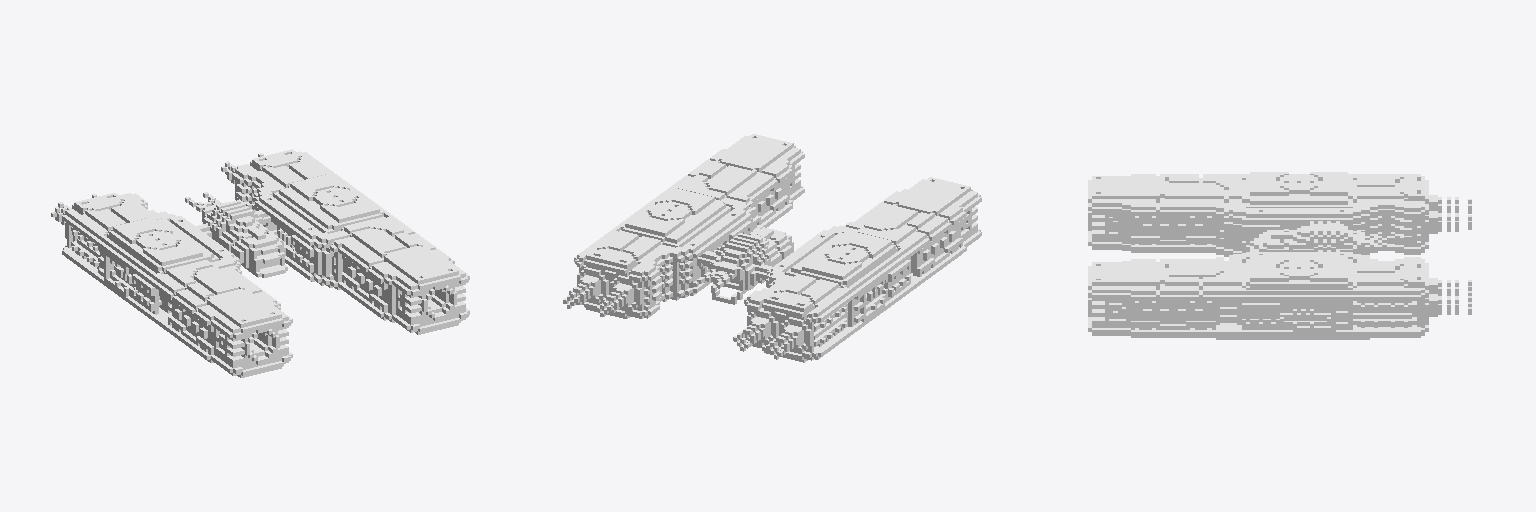
The model's file is DualStriker.obj.
3 views of the same model, side by side, from view 1: azimuth 30°, elevation 25°; view 2: azimuth 150°, elevation 25°; view 3: azimuth 270°, elevation 25° (orthographic).
Visible parts, largest first — view 1: object 1; view 2: object 1; view 3: object 1.
Part boxes in pixels (x1,y1,x2,y2): object 1: (51,149,469,377); object 1: (563,134,981,362); object 1: (1088,172,1471,339).
Size of the model in its own units: 6.7 by 1.6 by 9.